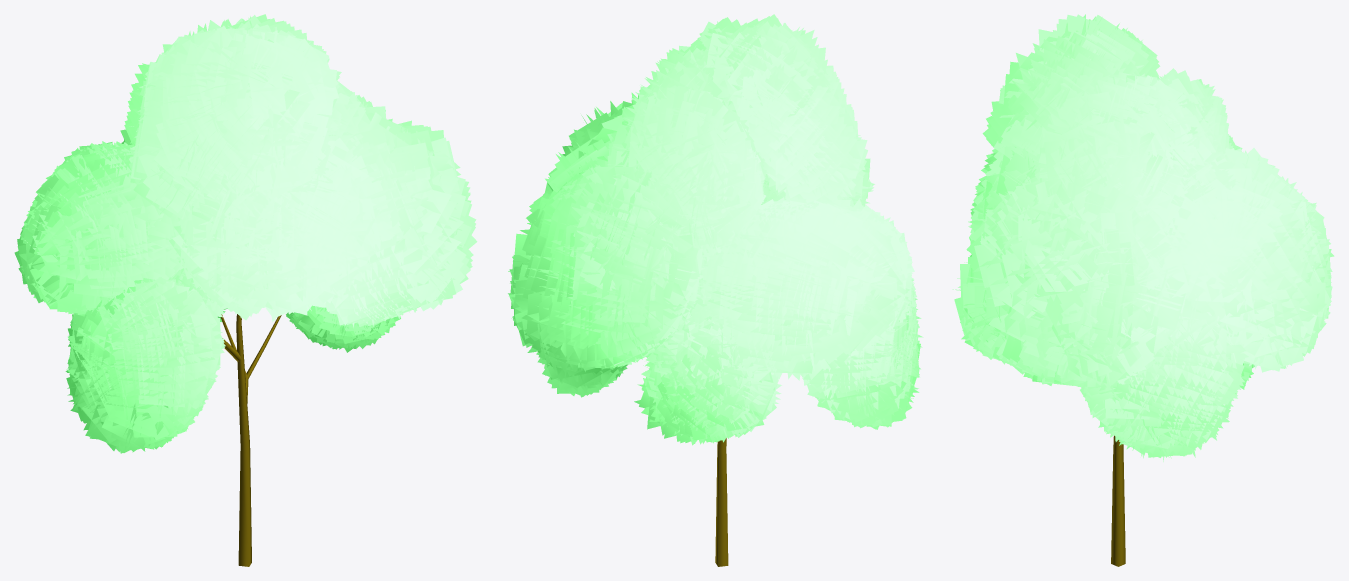
Rendered from tree.fbx.
3 renders of one model, left to right at view 1: azimuth 30°, elevation 25°; view 2: azimuth 150°, elevation 25°; view 3: azimuth 270°, elevation 25°, orthographic. The views are drawn at different scales.
Parts seen in each view (by area): view 1: 叶子.001, tree; view 2: 叶子.001, tree; view 3: 叶子.001, tree.
Part boxes in pixels (box(x1,y1,x2,y2)): 叶子.001: box(14, 14, 477, 453); tree: box(220, 314, 281, 566); 叶子.001: box(508, 14, 923, 445); tree: box(715, 438, 728, 566); 叶子.001: box(952, 14, 1334, 461); tree: box(1111, 435, 1125, 566).
Size of the model in its own units: 605 by 796 by 521.
